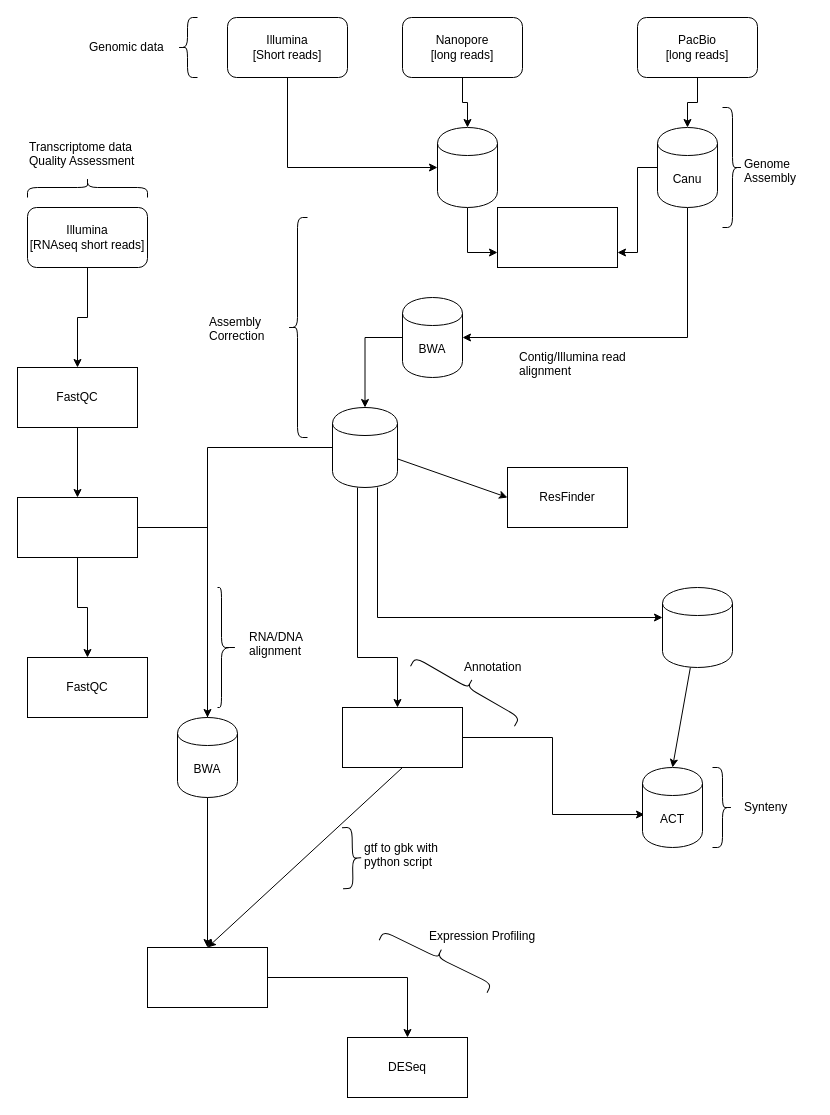
This 830x1115 diagram has some shape labels left out. The shapes that lost their labels are listed below. From the top down, each one's box as (x1, y1, x2, y2) in pixels, then its label:
(436, 126, 498, 208): Spades
(496, 206, 618, 268): Quast
(332, 406, 398, 488): Pilon
(16, 496, 138, 558): Trimmomatic
(662, 586, 732, 668): BLAST
(342, 706, 462, 768): Prokka
(146, 946, 268, 1008): HTseq
